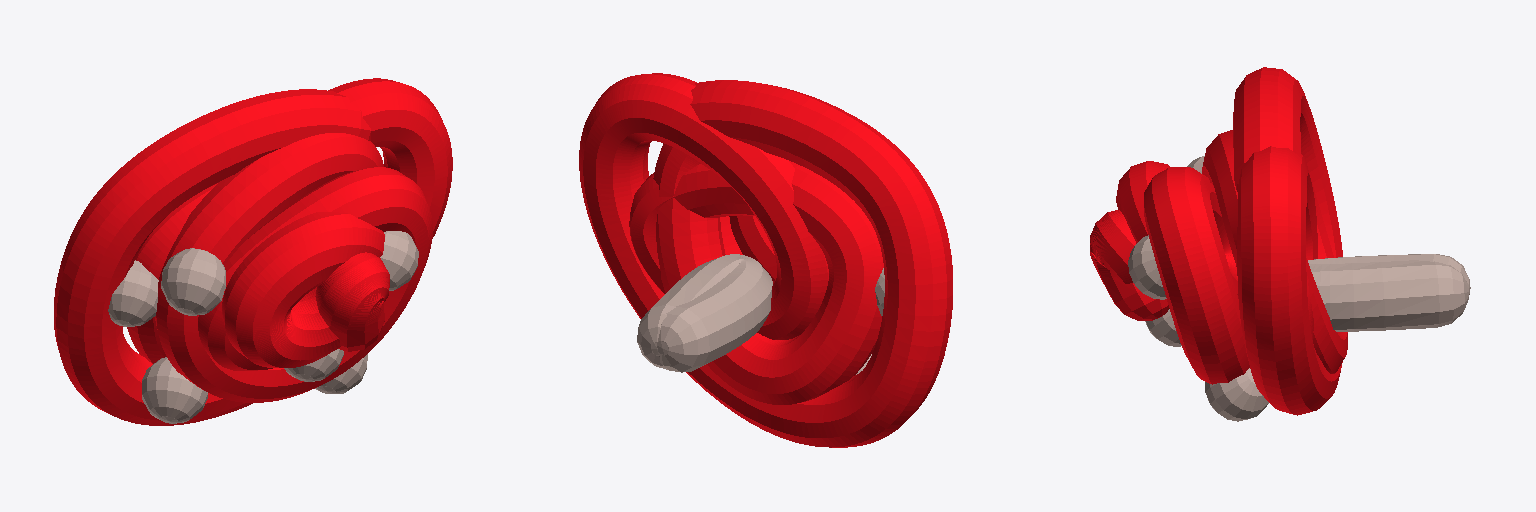
Rendered from shroom.obj.
3 renders of one model, left to right at view 1: azimuth 30°, elevation 25°; view 2: azimuth 150°, elevation 25°; view 3: azimuth 270°, elevation 25°, orthographic.
Parts seen in each view (by area): view 1: s.0011, s.0016, s.0013, s.0017, s.0015, s.0014, s.0012; view 2: s.0011, s.0009; view 3: s.0011, s.0009, s.0012, s.0015, s.0014.
Boxes of the visible parts, <box> form: s.0011: <box>54,78,452,425</box>; s.0016: <box>161,248,225,315</box>; s.0013: <box>142,357,207,423</box>; s.0017: <box>108,260,158,326</box>; s.0015: <box>380,231,418,290</box>; s.0014: <box>284,349,343,381</box>; s.0012: <box>315,354,367,393</box>; s.0011: <box>579,73,952,447</box>; s.0009: <box>637,254,772,372</box>; s.0011: <box>1090,67,1347,415</box>; s.0009: <box>1308,254,1470,331</box>; s.0012: <box>1205,368,1268,421</box>; s.0015: <box>1128,235,1166,299</box>; s.0014: <box>1145,309,1181,346</box>.
Bounding box in the file's own units: 17.13 × 14.05 × 15.02.